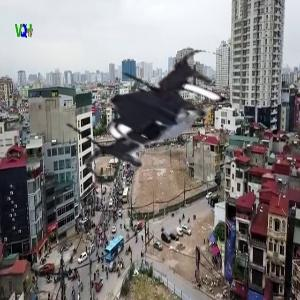drone: (62, 22, 245, 205)
